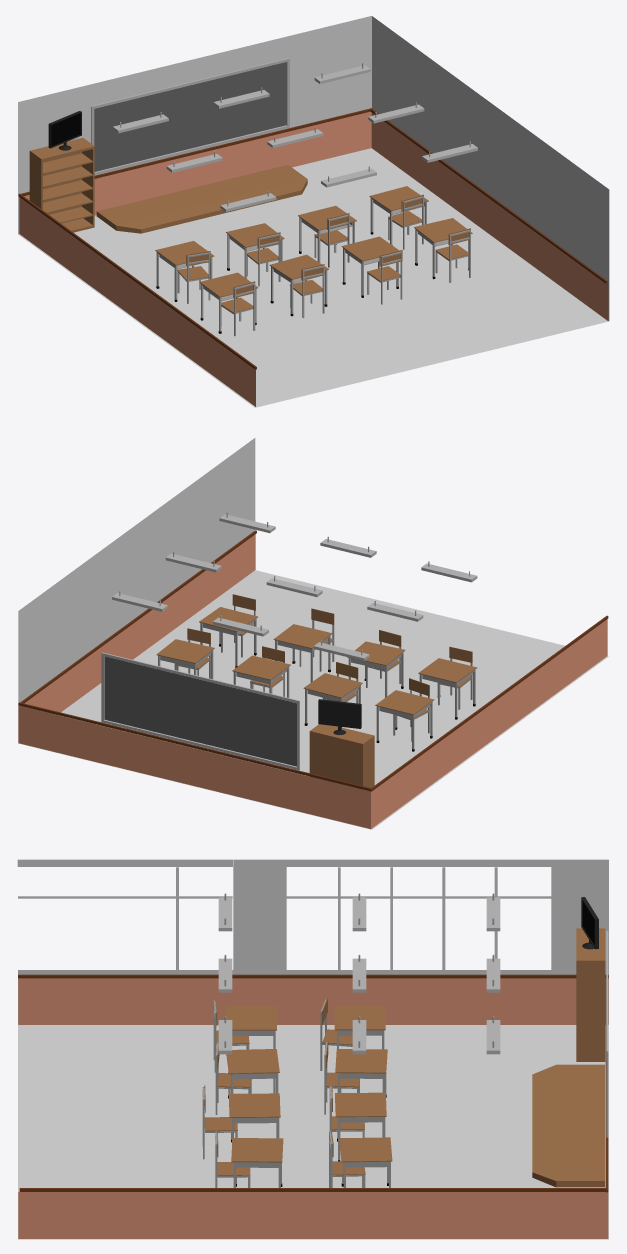
Rendered from classroom.glb.
3 renders of one model, top to bottom at view 1: azimuth 30°, elevation 25°; view 2: azimuth 150°, elevation 25°; view 3: azimuth 270°, elevation 25°, orthographic. The views are drawn at different scales.
Parts seen in each view (by area): view 1: Floor, Wall.003, Wall, Billboard, wallpaper left, wallpaper right, wallpaper right.001, Cube.001, Cube, Billboard edges, Table.005, Table.004 (+18 smaller); view 2: Floor, Wall.003, wallpaper right, Billboard, wallpaper left, wallpaper right.001, Cube, Billboard edges, Table.002, wall sep right, Table.006, Table.005 (+10 smaller); view 3: Floor, wallpaper right.001, wallpaper left, Wall.001, Cube.001, Cube, wall sep left, wall sep right.001, Table.001, Table.003, Table.007, Table.005 (+22 smaller).
Boxes of the visible parts, x1=… form: Floor: x1=18, y1=148, x2=608, y2=407; Wall.003: x1=372, y1=16, x2=609, y2=320; Wall: x1=18, y1=16, x2=371, y2=234; Billboard: x1=94, y1=62, x2=286, y2=171; wallpaper left: x1=19, y1=197, x2=255, y2=406; wallpaper right: x1=24, y1=111, x2=371, y2=215; wallpaper right.001: x1=371, y1=112, x2=608, y2=320; Cube.001: x1=96, y1=164, x2=307, y2=233; Cube: x1=29, y1=138, x2=94, y2=232; Billboard edges: x1=91, y1=58, x2=289, y2=175; Table.005: x1=341, y1=236, x2=399, y2=297; Table.004: x1=269, y1=254, x2=328, y2=316; Floor: x1=18, y1=570, x2=608, y2=829; Wall.003: x1=18, y1=438, x2=255, y2=705; wallpaper right: x1=18, y1=705, x2=370, y2=828; Billboard: x1=104, y1=656, x2=296, y2=766; wallpaper left: x1=371, y1=619, x2=607, y2=828; wallpaper right.001: x1=21, y1=534, x2=255, y2=714; Cube: x1=309, y1=724, x2=374, y2=790; Billboard edges: x1=101, y1=652, x2=299, y2=770; Table.002: x1=375, y1=690, x2=434, y2=751; wall sep right: x1=18, y1=702, x2=370, y2=790; Table.006: x1=418, y1=658, x2=477, y2=719; Table.005: x1=273, y1=624, x2=332, y2=682; Floor: x1=18, y1=1024, x2=608, y2=1239; wallpaper right.001: x1=18, y1=1192, x2=608, y2=1238; wallpaper left: x1=18, y1=978, x2=608, y2=1024; Wall.001: x1=17, y1=859, x2=608, y2=1023; Cube.001: x1=532, y1=1064, x2=604, y2=1187; Cube: x1=576, y1=928, x2=605, y2=1061; wall sep left: x1=18, y1=974, x2=608, y2=978; wall sep right.001: x1=19, y1=1188, x2=605, y2=1191; Table.001: x1=335, y1=1092, x2=386, y2=1161; Table.003: x1=339, y1=1137, x2=392, y2=1187; Table.007: x1=231, y1=1138, x2=283, y2=1187; Table.005: x1=228, y1=1093, x2=280, y2=1142.
Size of the model in its own units: 7.1 by 2.5 by 8.23.
